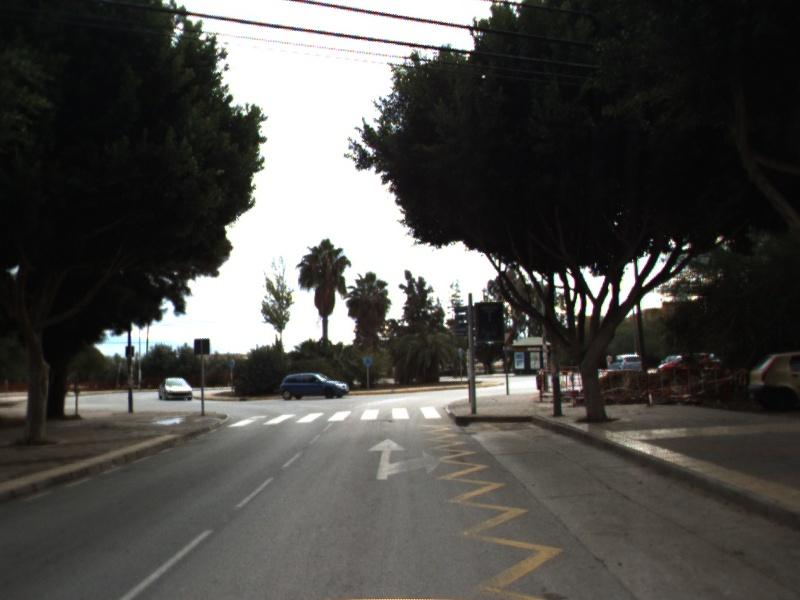STRAIGHT_RIGHT: (364, 436, 445, 481)
